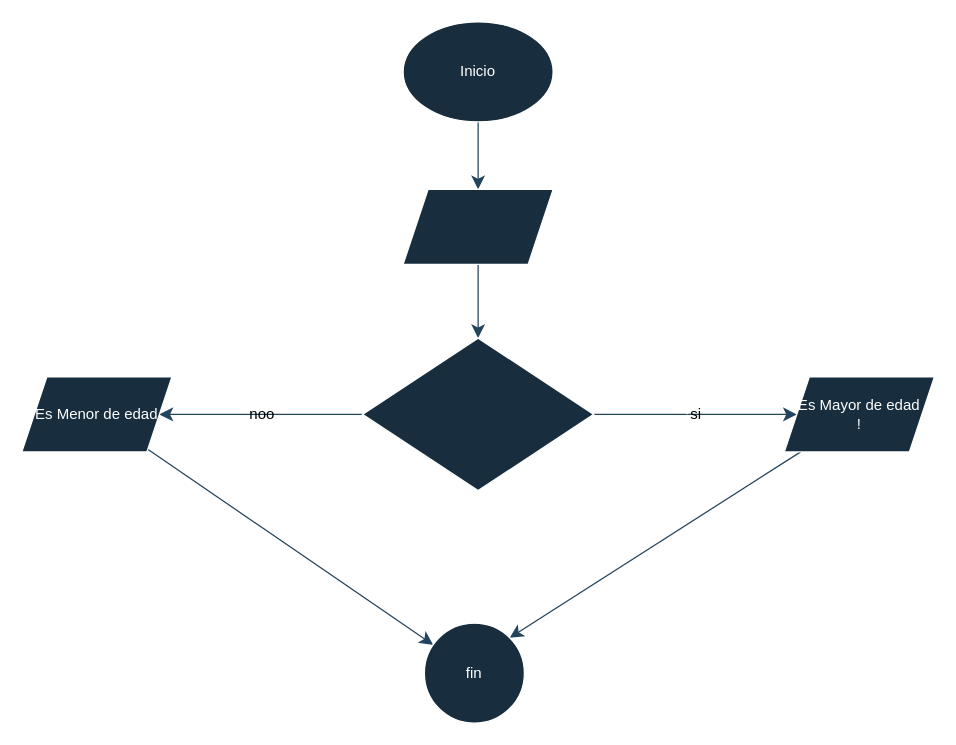
The diagram is 956 pixels wide and 745 high, and some of its shapes have lost their labels. The shapes that lost their labels are listed below. From the top down, each one's centre as x and y in pixels, then its label:
At (x=477, y=226): "Ingrese edad".
At (x=477, y=414): "ed ad mayor o igual a 18".
